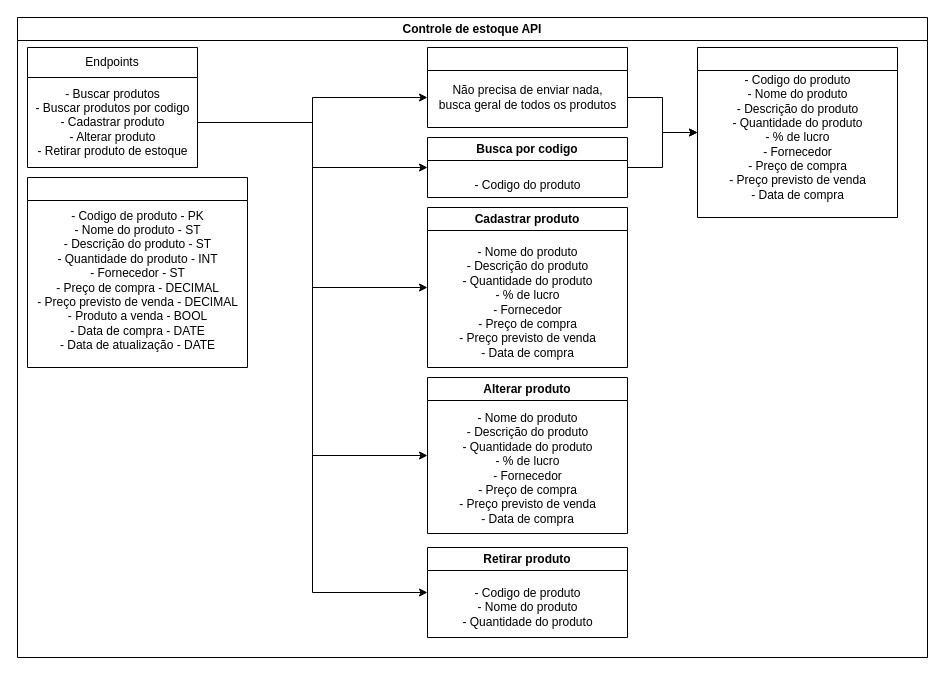
Image size: 945x675. Some labels were removed from this diagram. The box of each missing label's shape, as (x1, y1, x2, y2) in pixels:
Buscar todos os produtos: (426, 46, 628, 128)
Produto consiste de: (26, 176, 248, 368)
Retorno:: (696, 46, 898, 218)
